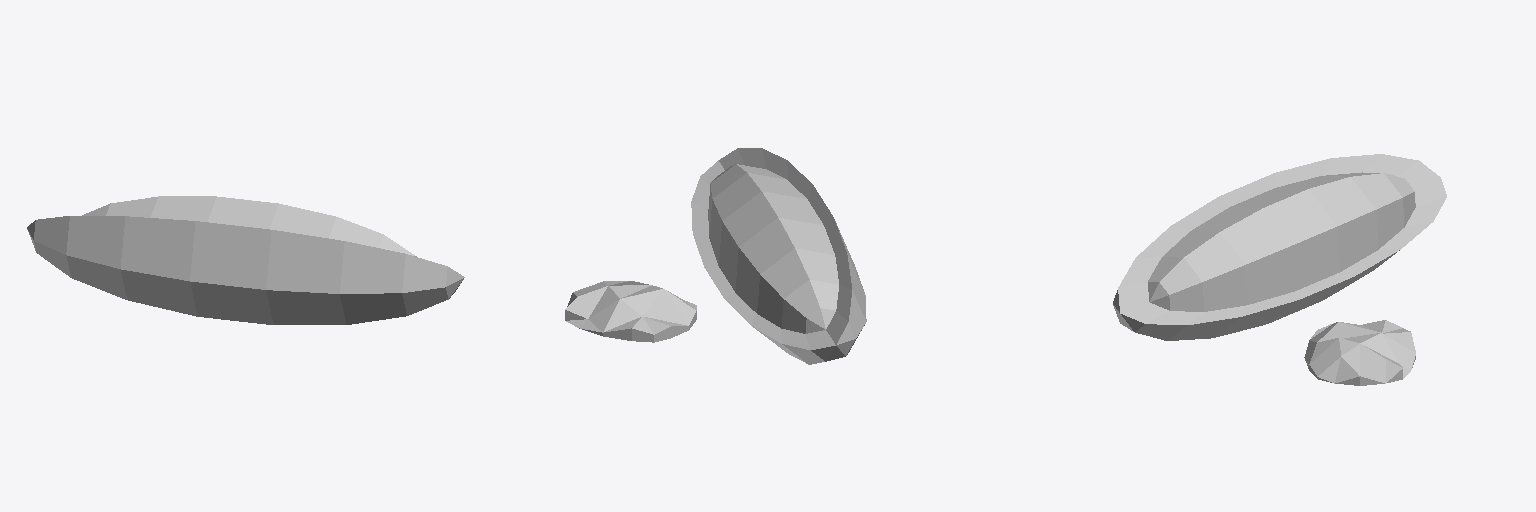
The model's file is corn_chop_2.obj.
3 renders of one model, left to right at view 1: azimuth 30°, elevation 25°; view 2: azimuth 150°, elevation 25°; view 3: azimuth 270°, elevation 25°, orthographic.
Visible parts, largest first — view 1: pSphere3 group6 Corn; view 2: pSphere3 group6 Corn, group6 Corn pCube84; view 3: pSphere3 group6 Corn, group6 Corn pCube84.
Part boxes in pixels (left/top/right/bottom): pSphere3 group6 Corn: left=27, top=196, right=464, bottom=324; pSphere3 group6 Corn: left=691, top=148, right=866, bottom=364; group6 Corn pCube84: left=565, top=281, right=696, bottom=342; pSphere3 group6 Corn: left=1113, top=154, right=1446, bottom=340; group6 Corn pCube84: left=1304, top=320, right=1415, bottom=385.
Bounding box in the file's own units: 0.7315 × 0.248 × 0.6834.